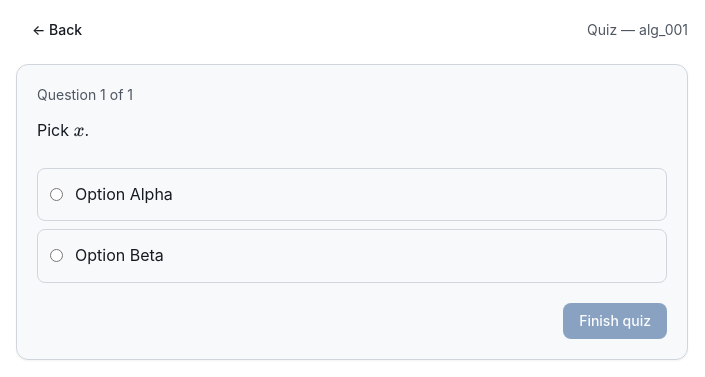
QuizComplete 'Next up' CTA › review maps option ids to option text and states correctness in words
The width and height of the screenshot is (705, 377).
Expected: the text "Pick" is shown, x1=37 y1=120 x2=74 y2=140
Click the radio button labelled "Option Beta" at (56, 256), box x1=50 y1=250 x2=63 y2=262
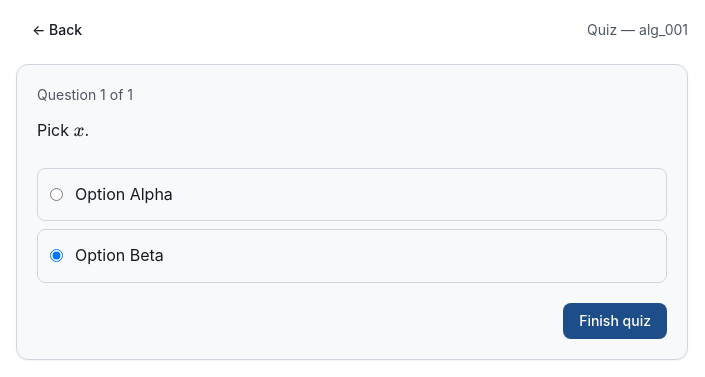
Click the button "Finish quiz" at (615, 321), box x1=563 y1=303 x2=667 y2=339
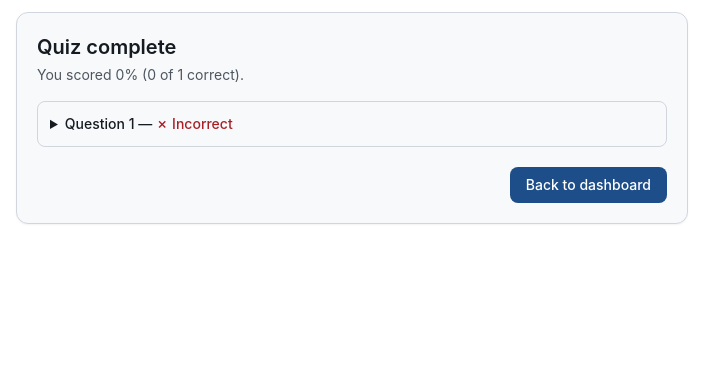
Expected: the heading "Quiz complete" is shown, x1=37 y1=35 x2=176 y2=59
Expected: the text "✗ Incorrect" is shown, x1=156 y1=115 x2=233 y2=132
